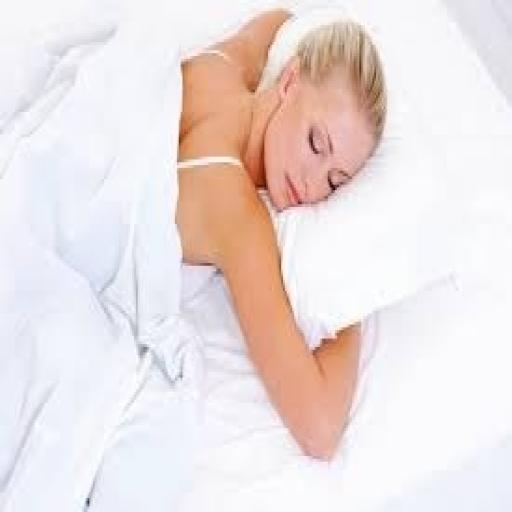sleeping: (171, 3, 389, 464)
